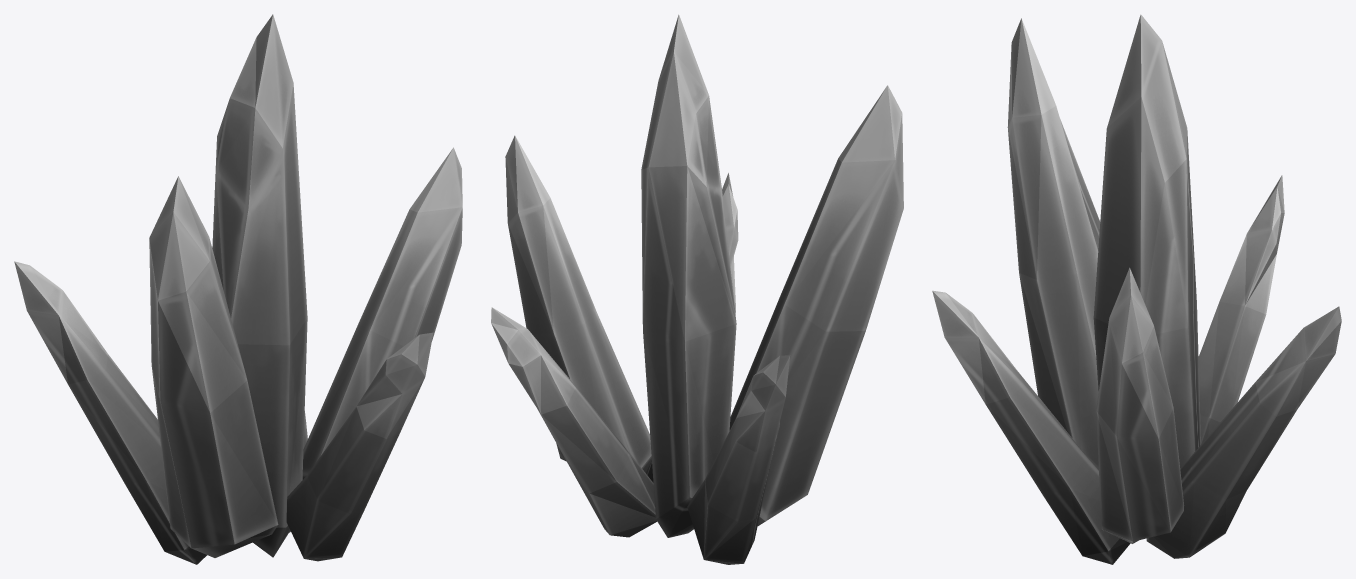
Rendered from cave crystal clumpB.FBX.
3 renders of one model, left to right at view 1: azimuth 30°, elevation 25°; view 2: azimuth 150°, elevation 25°; view 3: azimuth 270°, elevation 25°, orthographic. The views are drawn at different scales.
Visible parts, largest first — view 1: crystal A001; view 2: crystal A001; view 3: crystal A001.
Part boxes in pixels (x1,y1,x2,y2): crystal A001: [14, 14, 462, 564]; crystal A001: [491, 14, 903, 564]; crystal A001: [932, 14, 1341, 564].
Size of the model in its own units: 4.35 by 6.1 by 4.22.
